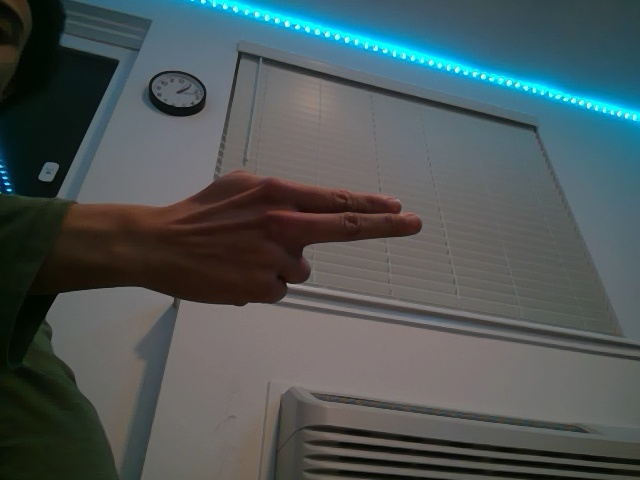h: (143, 167, 426, 310)
